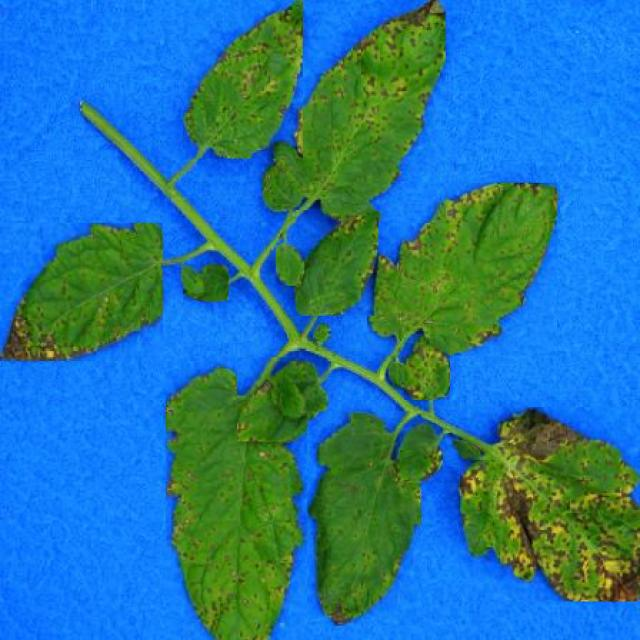Septoria: (261, 1, 446, 222), (165, 368, 308, 640), (458, 407, 640, 602), (367, 183, 557, 356), (307, 411, 422, 626), (0, 222, 163, 360), (183, 2, 303, 158), (296, 210, 378, 316), (238, 357, 328, 442), (404, 335, 450, 401), (396, 423, 443, 483), (182, 265, 229, 302), (276, 244, 305, 286)
